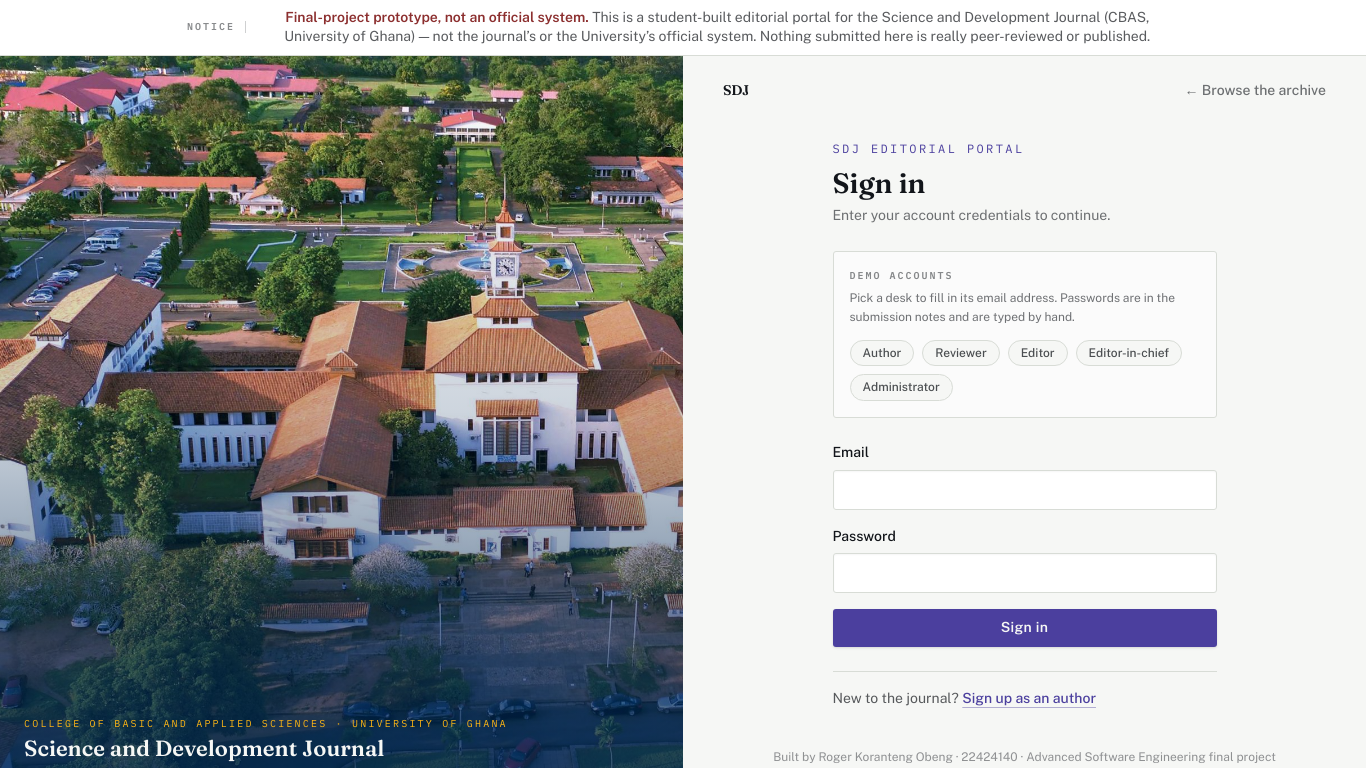
Scenario: LoginPage › switches to a sign-up form with name and affiliation, and back again
The width and height of the screenshot is (1366, 768).
Check: the field labelled "Full name" is not shown
Click the button "Sign up as an author" at (1029, 699), box [962,688,1096,709]
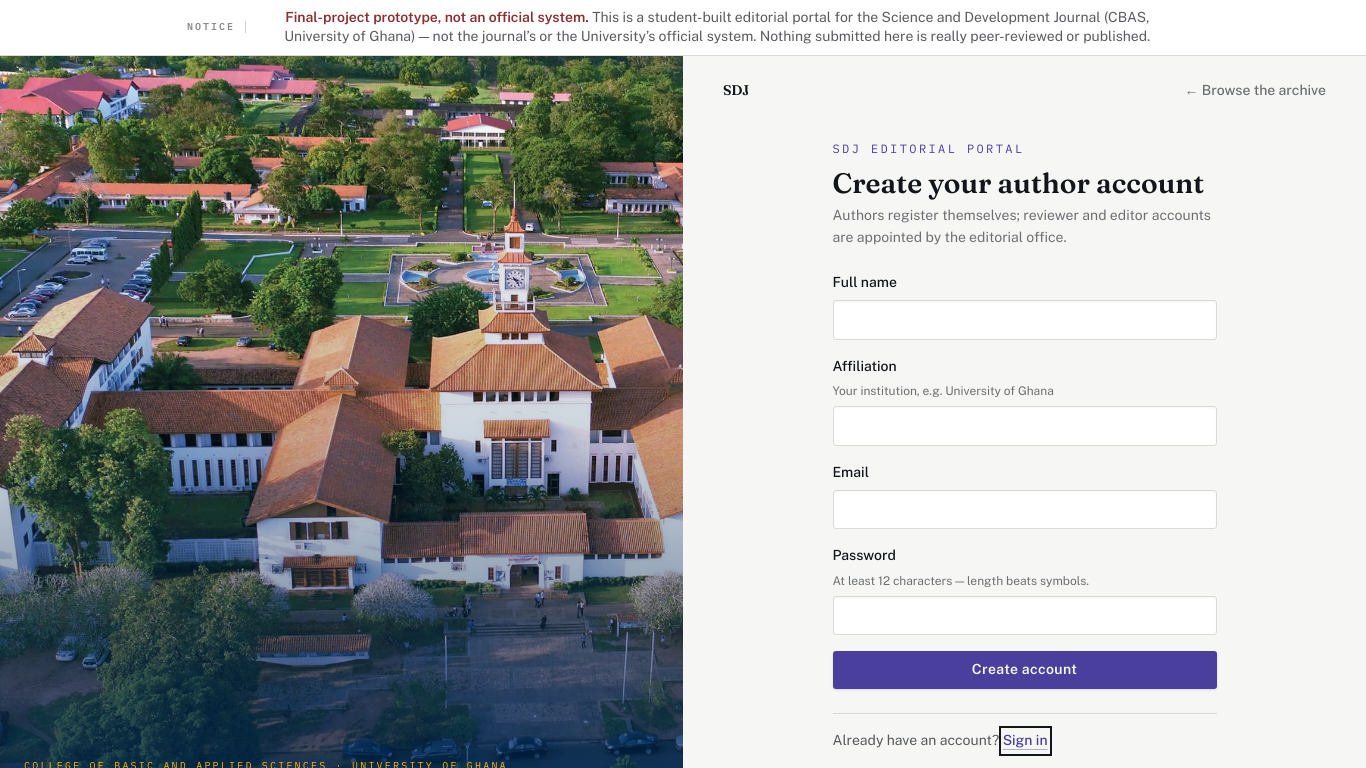
Check: the heading "Create your author account" is shown, box [832,166,1216,201]
Check: the field labelled "Full name" is shown, box [832,300,1216,340]
Check: the field labelled "Affiliation" is shown, box [832,406,1216,446]
Click the button "Sign in" at (1025, 741), box [1003,730,1048,752]
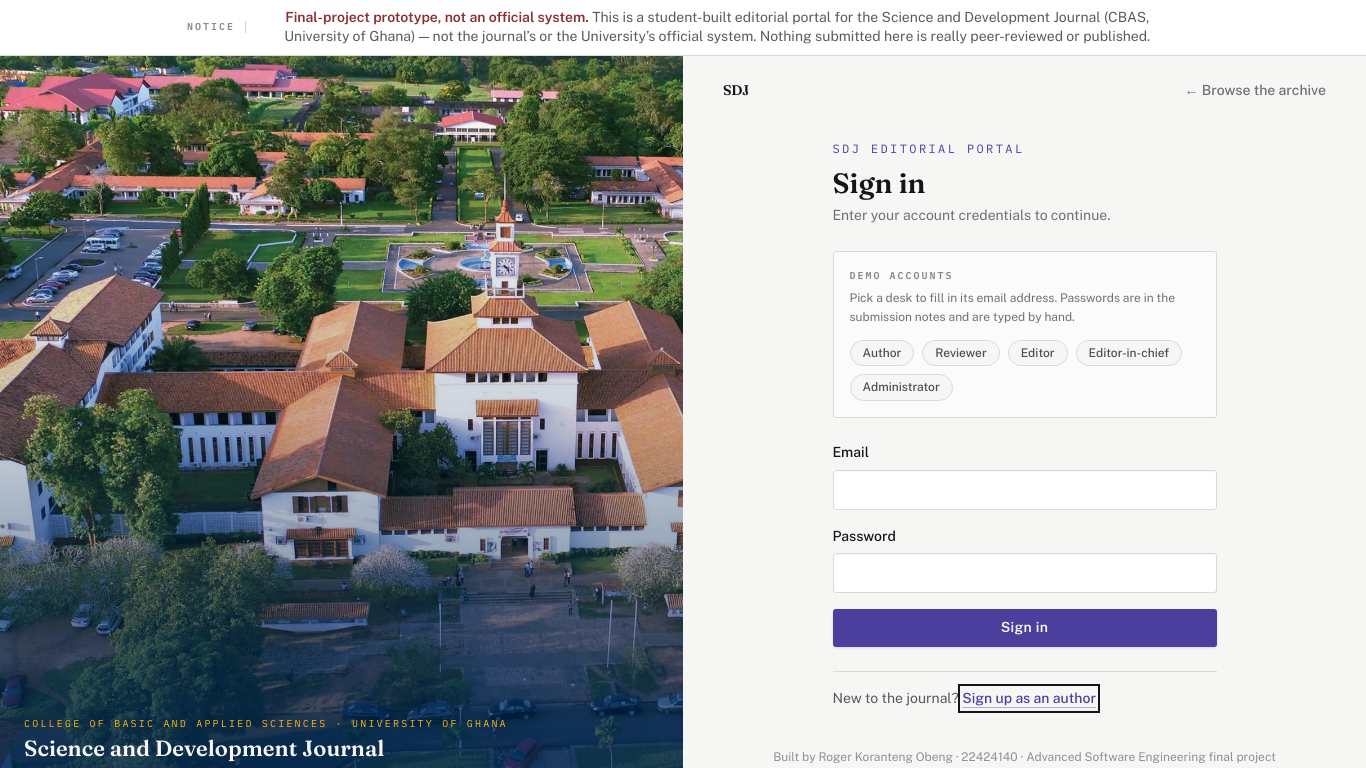
Check: the heading "Sign in" is shown, box [832,166,926,200]
Check: the label labelled "Full name" is gone
